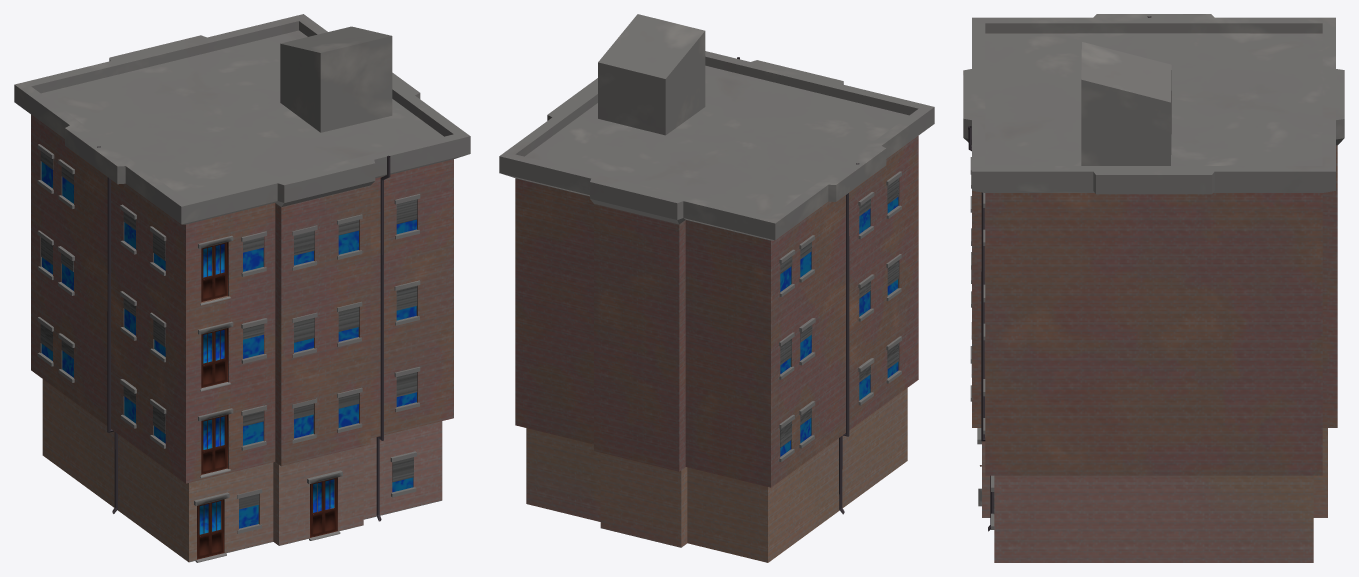
Rendered from Standalone_Building.gltf.
3 renders of one model, left to right at view 1: azimuth 30°, elevation 25°; view 2: azimuth 150°, elevation 25°; view 3: azimuth 270°, elevation 25°, orthographic. The views are drawn at different scales.
Visible parts, largest first — view 1: standalone_Building.001; view 2: standalone_Building.001; view 3: standalone_Building.001.
Boxes of the visible parts, x1,y1,x2,y2 form: standalone_Building.001: [14, 14, 470, 562]; standalone_Building.001: [499, 14, 934, 562]; standalone_Building.001: [963, 14, 1344, 562].
Bounding box in the file's own units: 11.29 × 15.72 × 11.29.
Materials: 1 (1 with a texture image).
